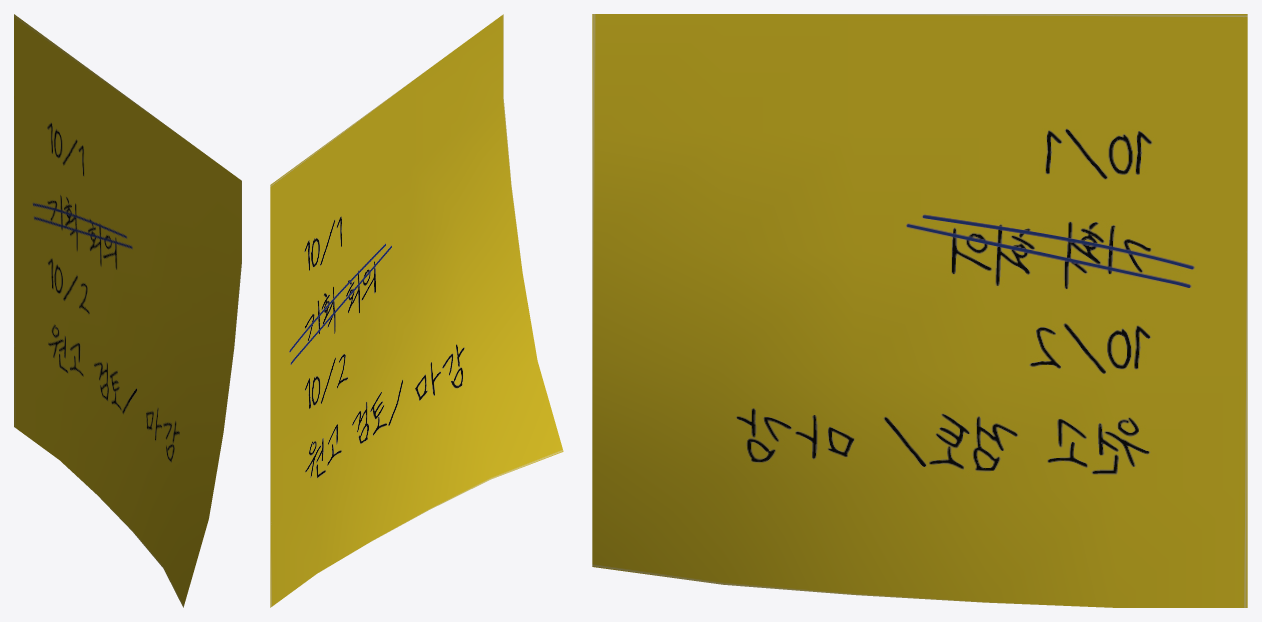
The model's file is memo1.fbx.
The picture shows the model from 3 angles, left to right: view 1: azimuth 30°, elevation 25°; view 2: azimuth 150°, elevation 25°; view 3: azimuth 270°, elevation 25°; orthographic projection. The views are drawn at different scales.
Parts seen in each view (by area): view 1: memo6; view 2: memo6; view 3: memo6.
Part boxes in pixels (left/top/right/bottom): memo6: left=14, top=14, right=241, bottom=607; memo6: left=270, top=14, right=563, bottom=607; memo6: left=592, top=14, right=1247, bottom=607.
Bounding box in the file's own units: 0.000723 × 0.00488 × 0.00488.
1 material, 1 textured.
